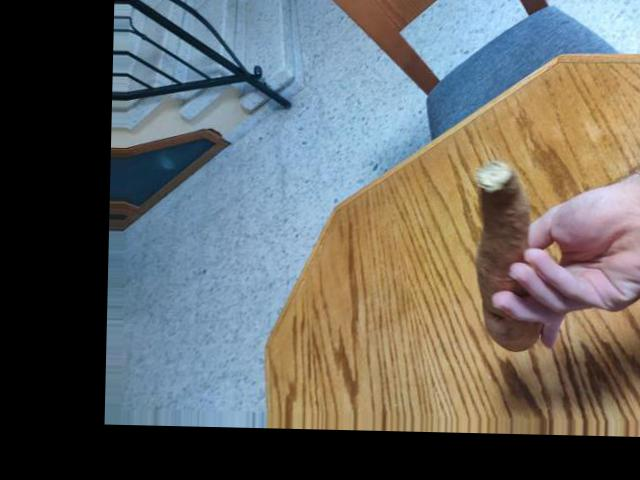sweet_potato: (464, 157, 554, 349)
